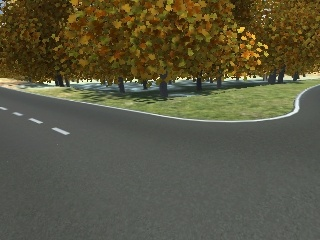Line slipt: (12, 110, 74, 137)
